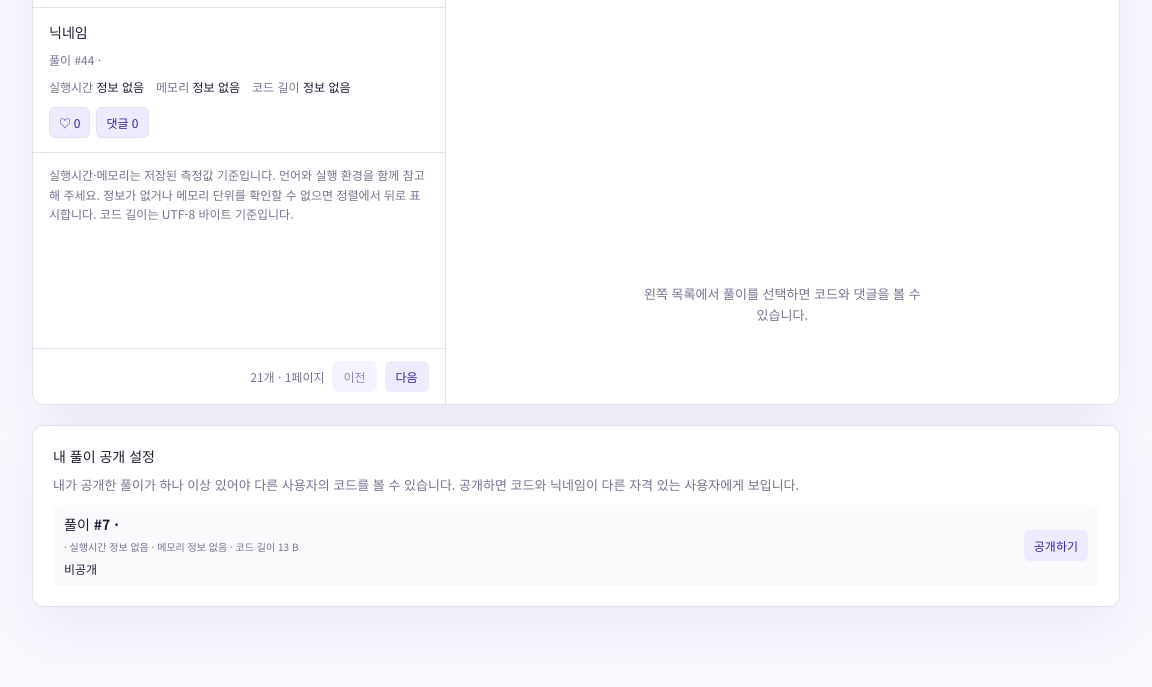
Scenario: keeps a valid session when publishing returns an eligibility conflict
(page scrolled)
Click the button "공개하기".
click(1056, 545)  # box [1024,530,1088,561]
(page scrolled)
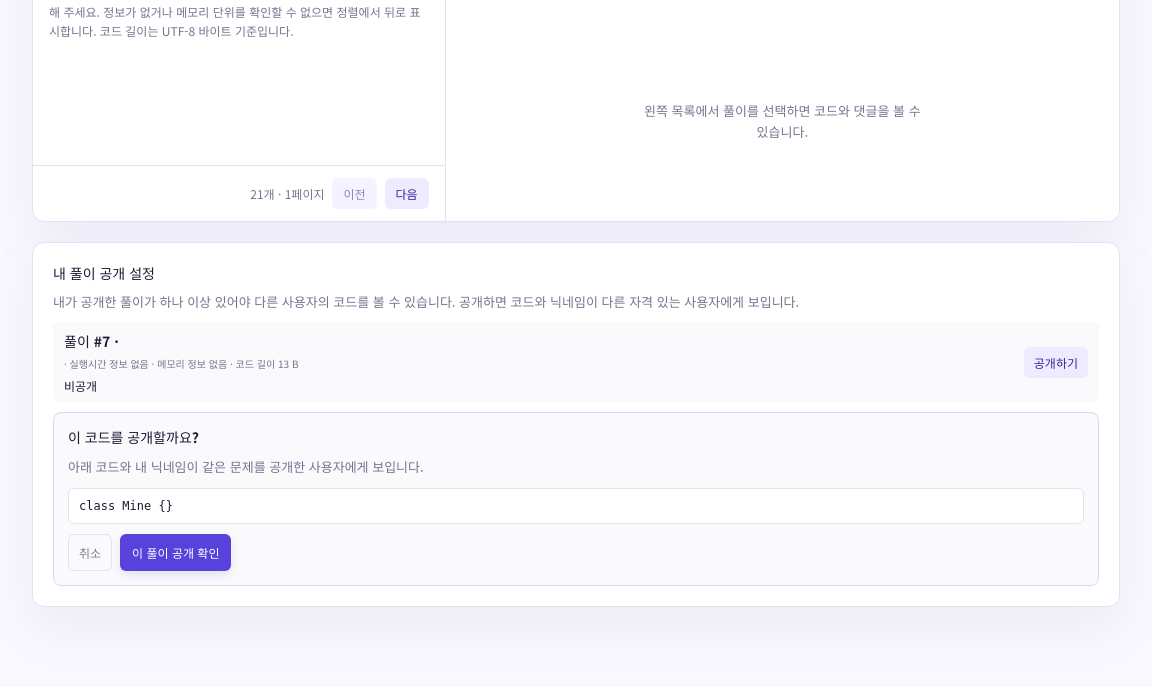
Click the button "이 풀이 공개 확인".
click(176, 552)  # box [120,534,232,571]
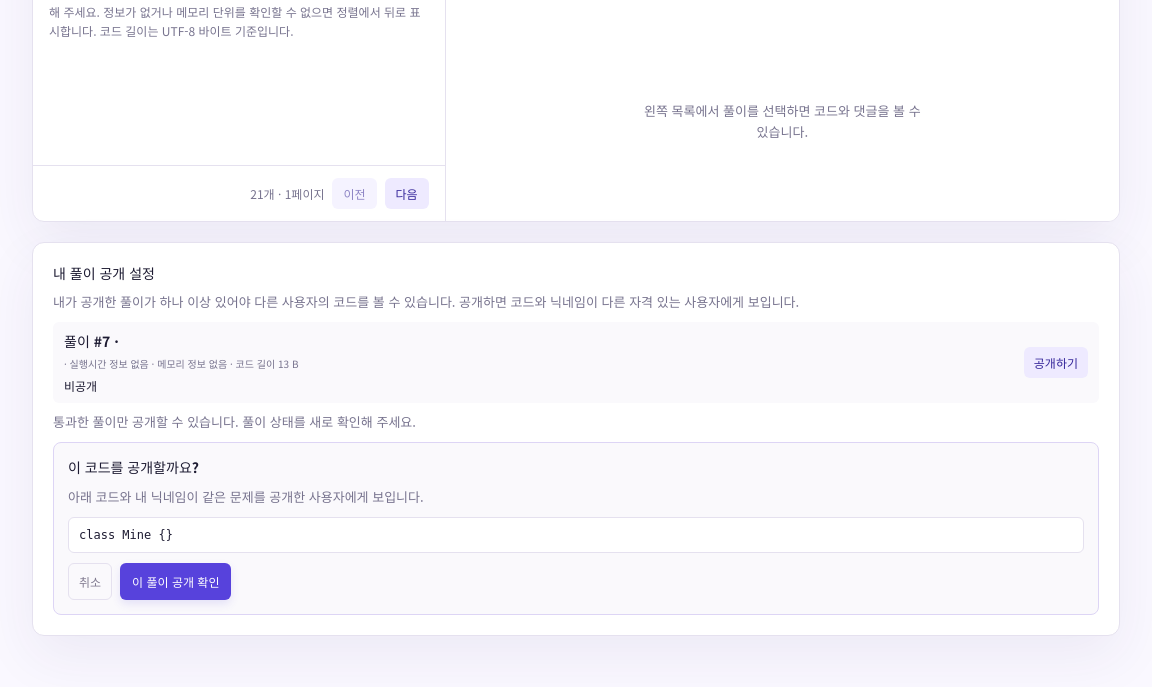
Expected: the text "내 풀이 공개 설정" is shown, [53,263,155,283]
Expected: the message reads "통과한 풀이만 공개할 수 있습니다. 풀이 상태를 새로 확인해 주세요.", [53,412,416,431]
